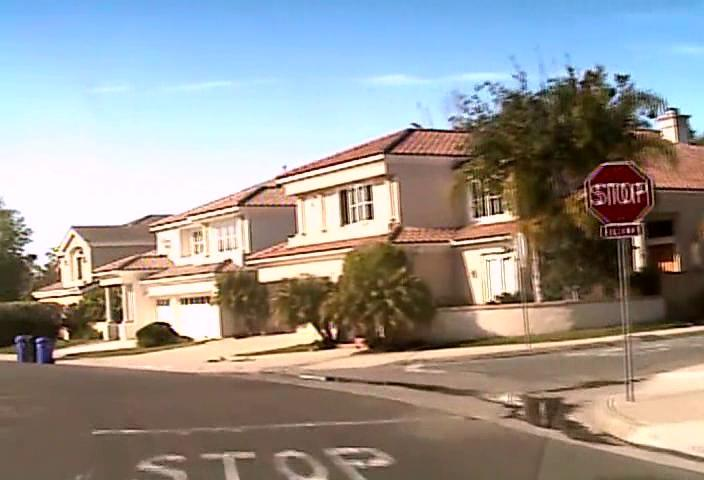stop: (584, 160, 655, 225)
